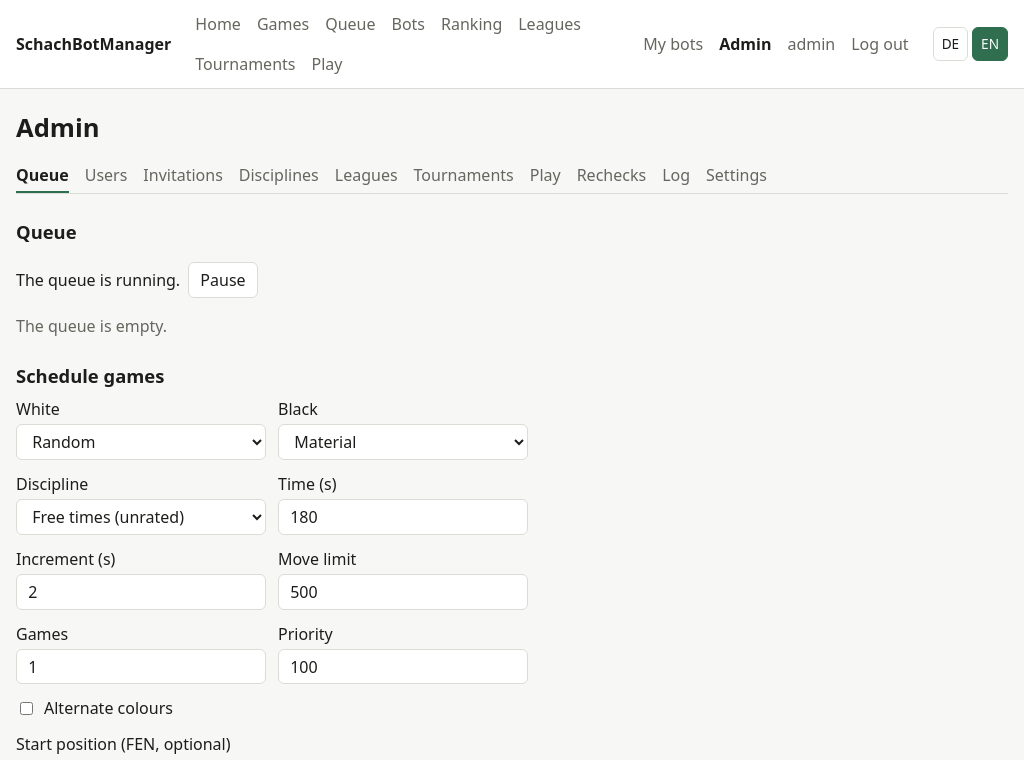
admin games › schedules games between two bots
The width and height of the screenshot is (1024, 760).
Replace the text in the number field labelled "Games" with "3": (141, 666) [16, 649, 266, 684]
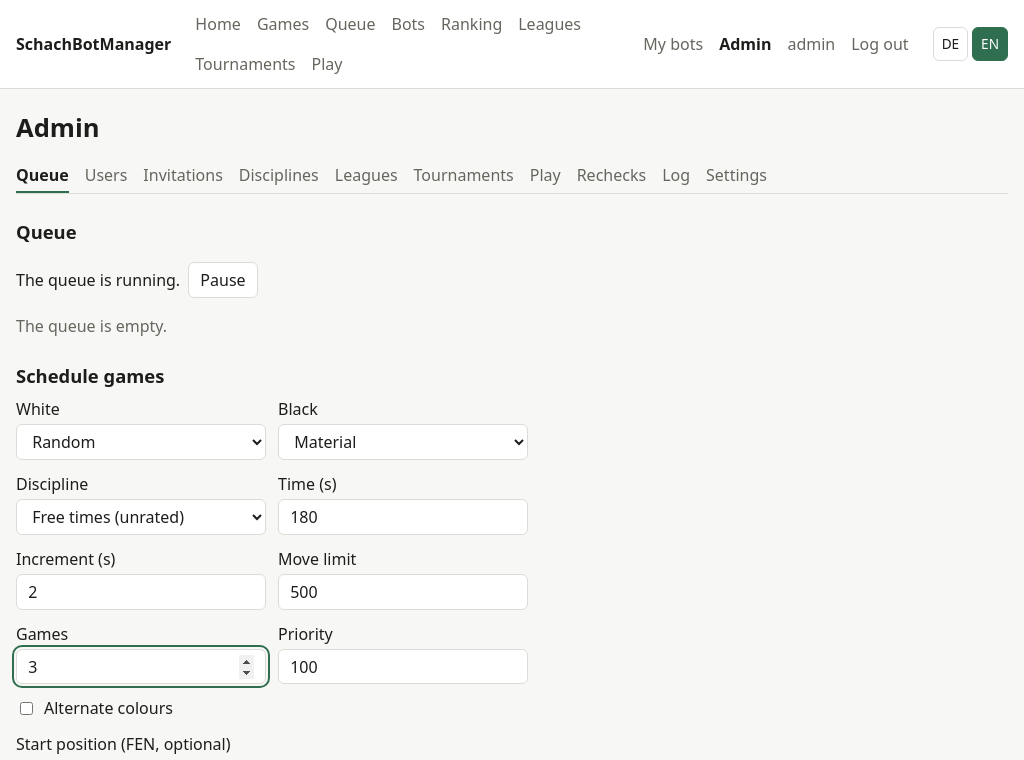
Replace the text in the number field labelled "Increment (s)" with "0.5": (141, 592) [16, 574, 266, 610]
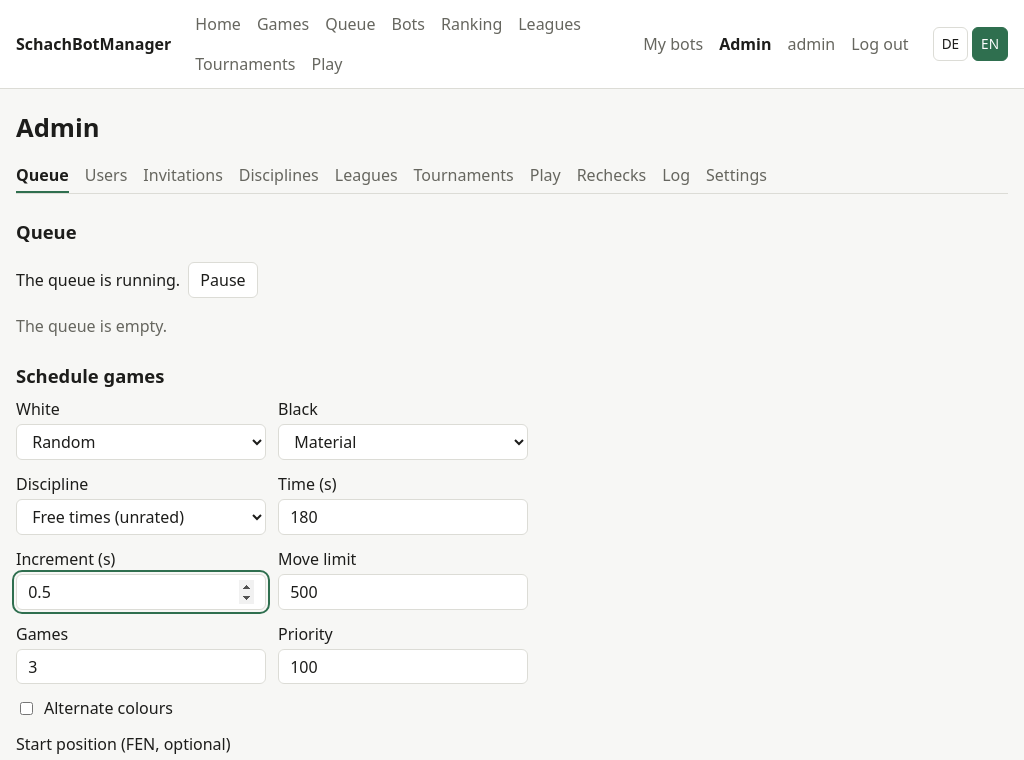
Click the checkbox labelled "Alternate colours": click(26, 708) [20, 702, 33, 715]
(page scrolled)
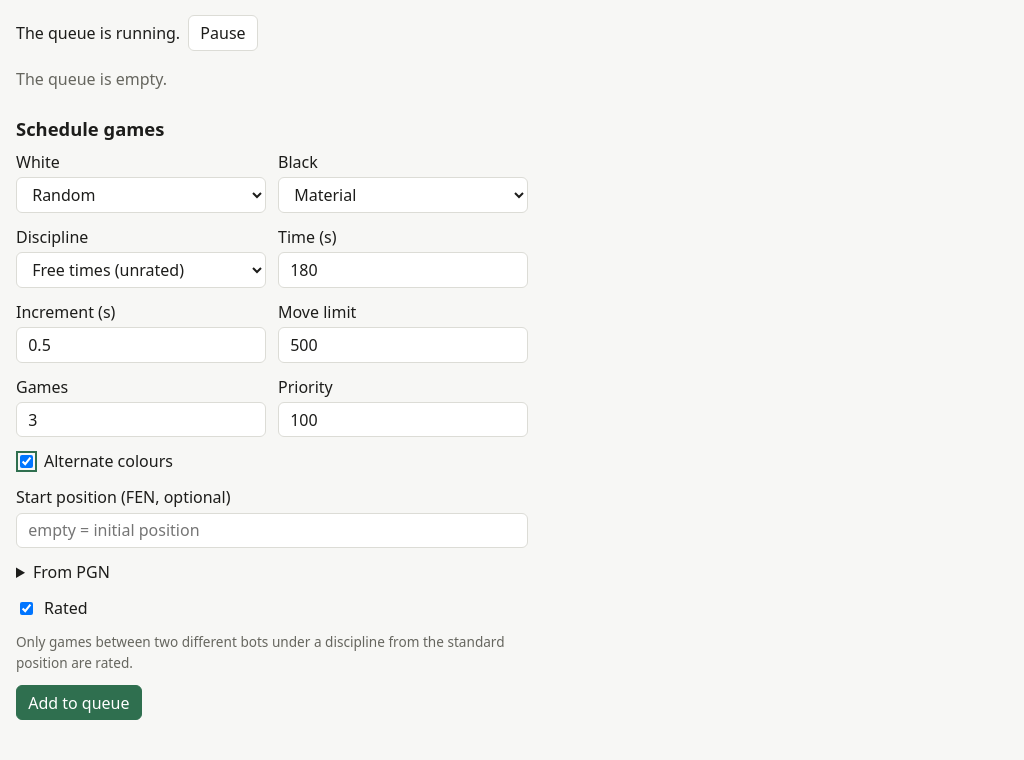
Click the button "Add to queue": click(79, 703) [16, 685, 142, 720]
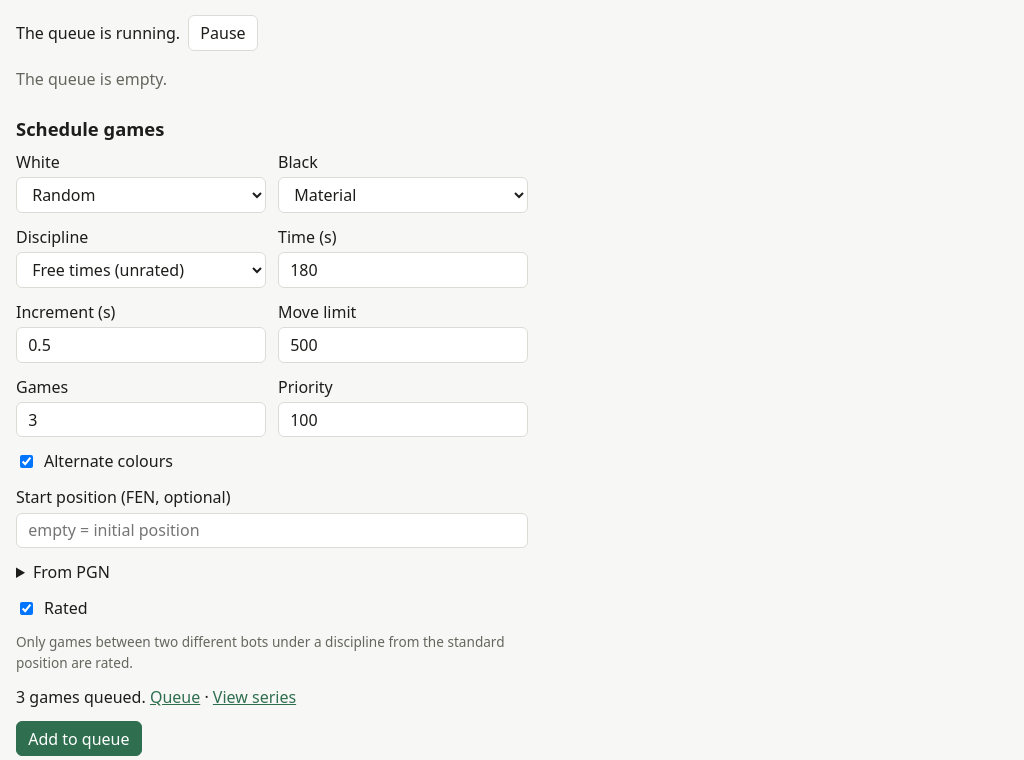
Now the text "3 games queued." is shown, box [16, 686, 146, 708]
